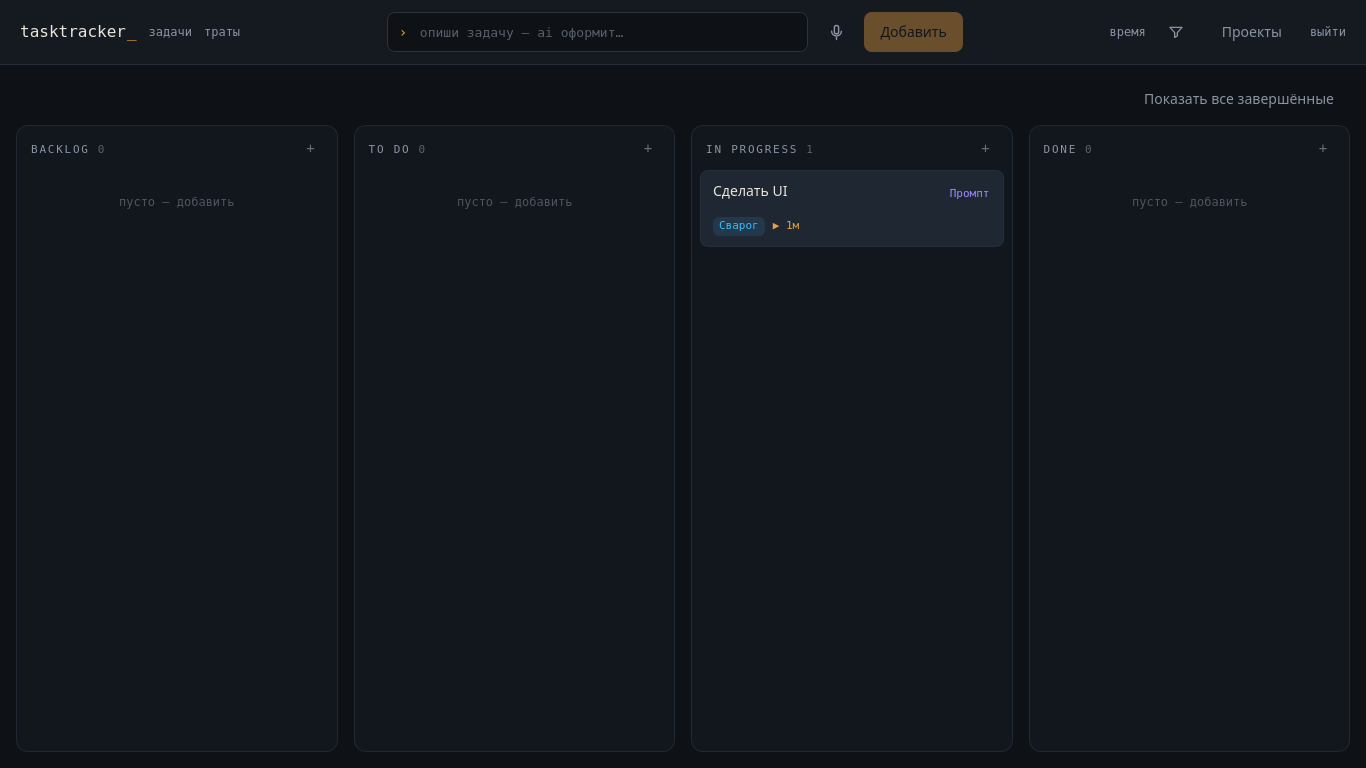
Test: BoardPage: перетаскивание и живой таймер › после перевода работающей задачи в Done таймер не остаётся висеть
Check: the text "Сделать UI" is shown, box [713,181,787,200]
Check: the text "▶" is shown, box [773,219,779,232]
Press the mouse on the button "Сделать UI Сварог ▶ 1м" at (852, 208), box [700,170,1004,246]
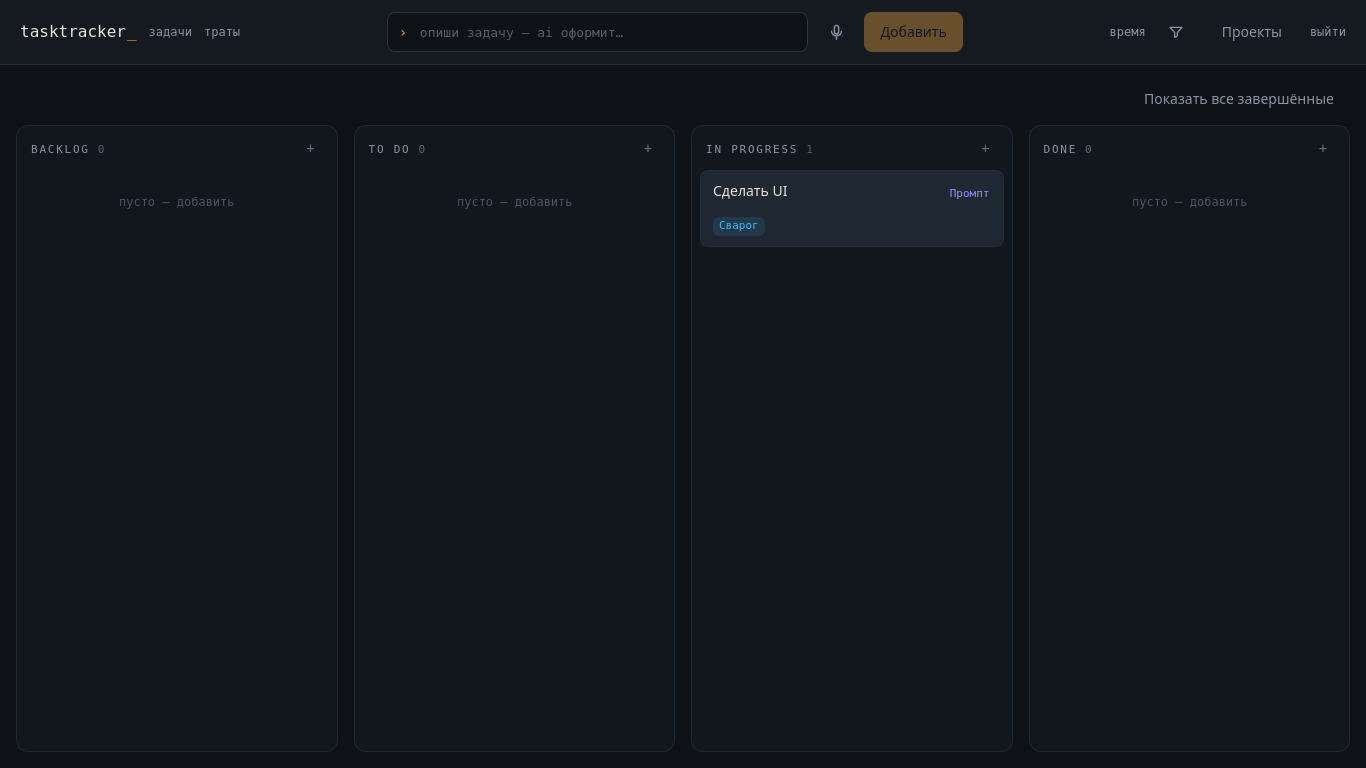
Check: the text "▶" is gone
